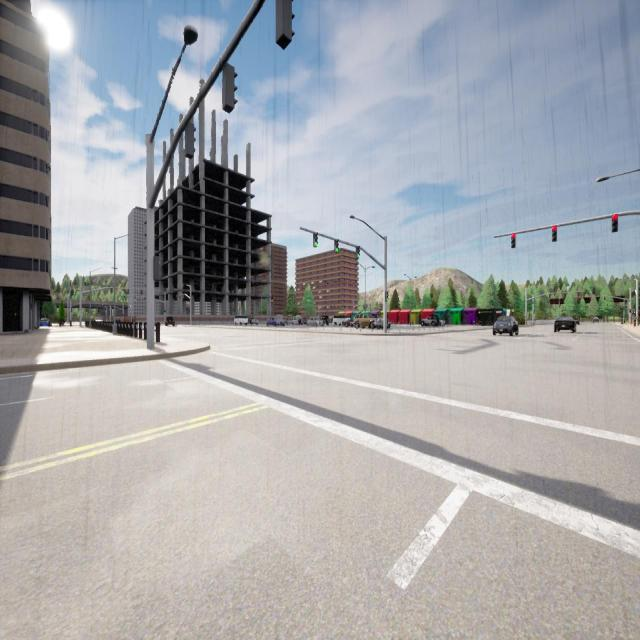Pedestrian: (633, 312, 637, 327)
Vehicle: (354, 311, 384, 329), (493, 316, 518, 336), (554, 317, 576, 332), (333, 315, 350, 326), (421, 316, 439, 326), (267, 318, 284, 327), (234, 316, 248, 325), (292, 316, 306, 325), (307, 317, 319, 326), (39, 318, 51, 326), (166, 316, 174, 326), (320, 316, 328, 326), (248, 317, 258, 325), (593, 317, 599, 324), (573, 317, 579, 324)
traffic_light: (276, 0, 294, 49), (222, 65, 238, 114), (186, 124, 196, 159), (153, 256, 159, 280), (612, 215, 618, 232), (552, 226, 557, 240), (313, 233, 318, 247), (511, 234, 515, 248), (334, 240, 338, 252), (356, 246, 360, 258), (385, 291, 389, 302), (589, 296, 592, 299), (134, 297, 136, 301), (629, 309, 631, 313), (604, 296, 606, 300), (124, 295, 125, 300), (164, 310, 166, 312), (578, 297, 580, 299)
